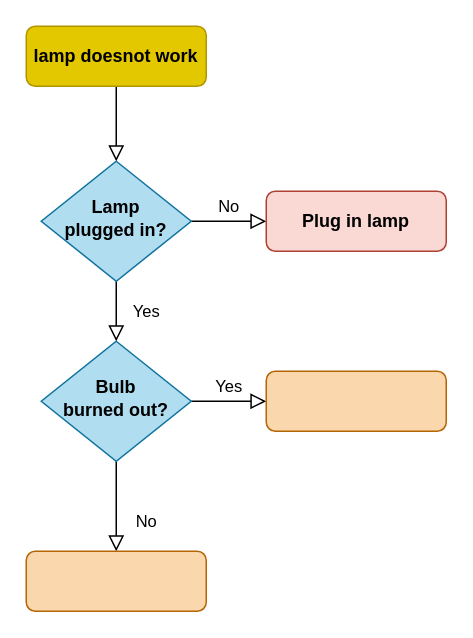
The diagram is 473 pixels wide and 638 high, and some of its shapes have lost their labels. The shapes that lost their labels are listed below. From the top down, each one's centre as x and y in pixels, then its label:
At (x=355, y=400): "Replace Bulb".
At (x=115, y=580): "Repair Lamp".
